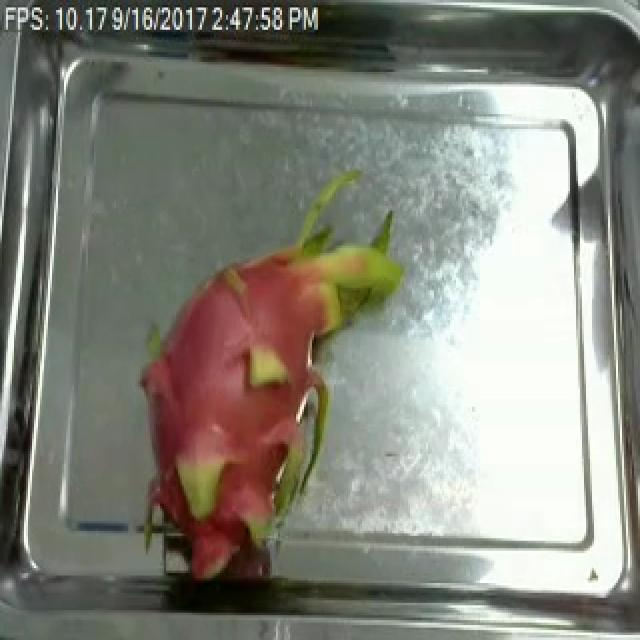fruit: (120, 176, 416, 595)
